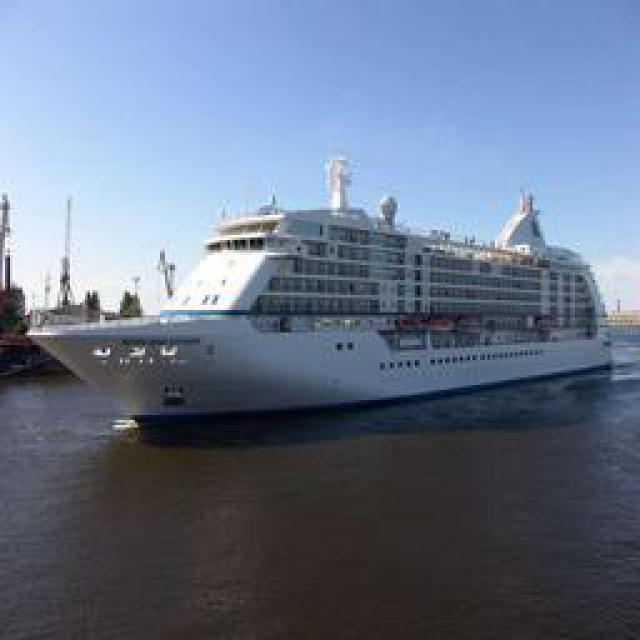Ship: (21, 184, 609, 429)
